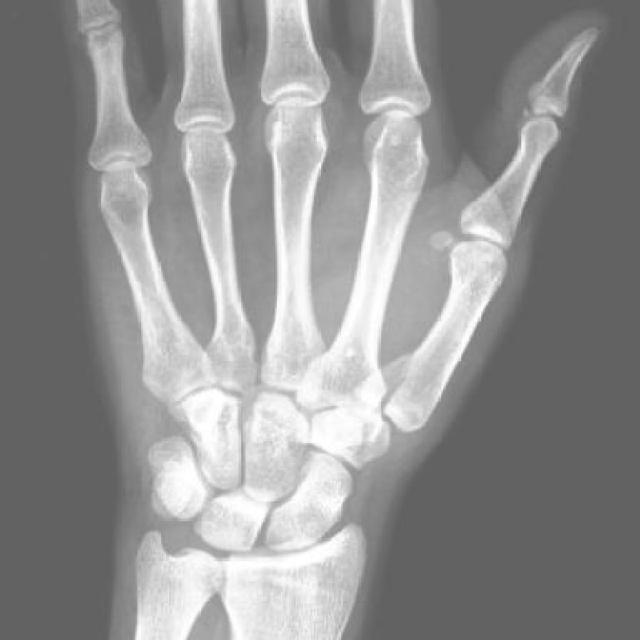Fracture: (358, 341, 436, 437)
